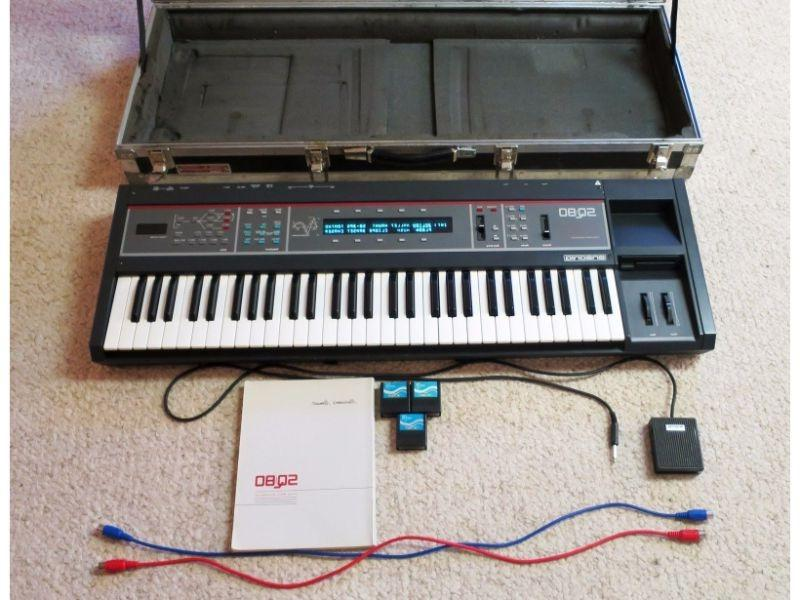synthesizer: (89, 172, 721, 367)
